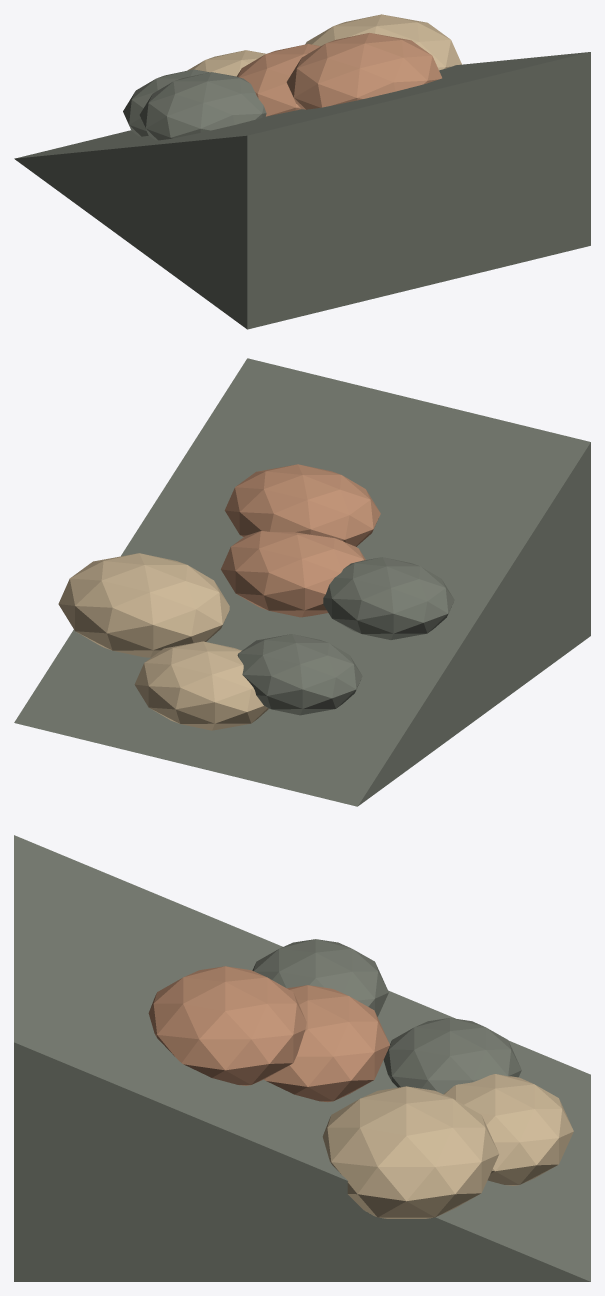
File: debris_ramp_04.glb
The picture shows the model from 3 angles, top to bottom: view 1: azimuth 30°, elevation 25°; view 2: azimuth 150°, elevation 25°; view 3: azimuth 270°, elevation 25°; orthographic projection. The views are drawn at different scales.
Visible parts, largest first — view 1: core, lump2, lump3, lump1, lump5, lump0, lump4; view 2: core, lump1, lump2, lump5, lump4, lump3, lump0; view 3: core, lump1, lump2, lump5, lump4, lump0, lump3.
Boxes of the visible parts, x1,y1,x2,y2 form: core: [14, 52, 590, 329]; lump2: [286, 33, 441, 109]; lump3: [139, 72, 266, 140]; lump1: [305, 14, 461, 70]; lump5: [237, 44, 320, 116]; lump0: [123, 69, 209, 136]; lump4: [187, 50, 266, 76]; core: [14, 358, 590, 806]; lump1: [58, 553, 229, 657]; lump2: [224, 464, 380, 546]; lump5: [221, 531, 365, 617]; lump4: [134, 641, 268, 730]; lump3: [323, 557, 454, 639]; lump0: [237, 634, 362, 715]; core: [14, 835, 590, 1281]; lump1: [322, 1086, 499, 1218]; lump2: [148, 966, 306, 1085]; lump5: [264, 985, 389, 1102]; lump4: [443, 1074, 573, 1185]; lump0: [383, 1018, 521, 1094]; lump3: [252, 939, 388, 1016].
Size of the model in its own units: 1.09 by 0.55 by 1.2.
